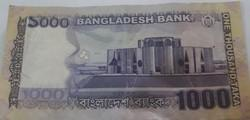1000 taka: (11, 6, 246, 117)
